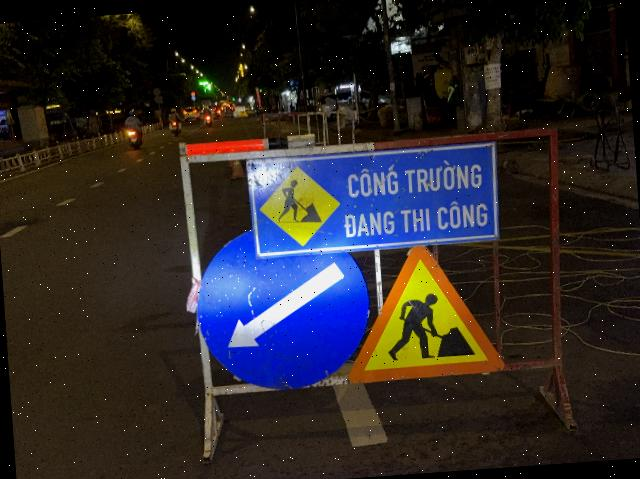cong-truong-dang-thi-cong: (338, 234, 508, 386)
huong-phai-di-vong-chuong-ngai-vat: (188, 218, 376, 395)
